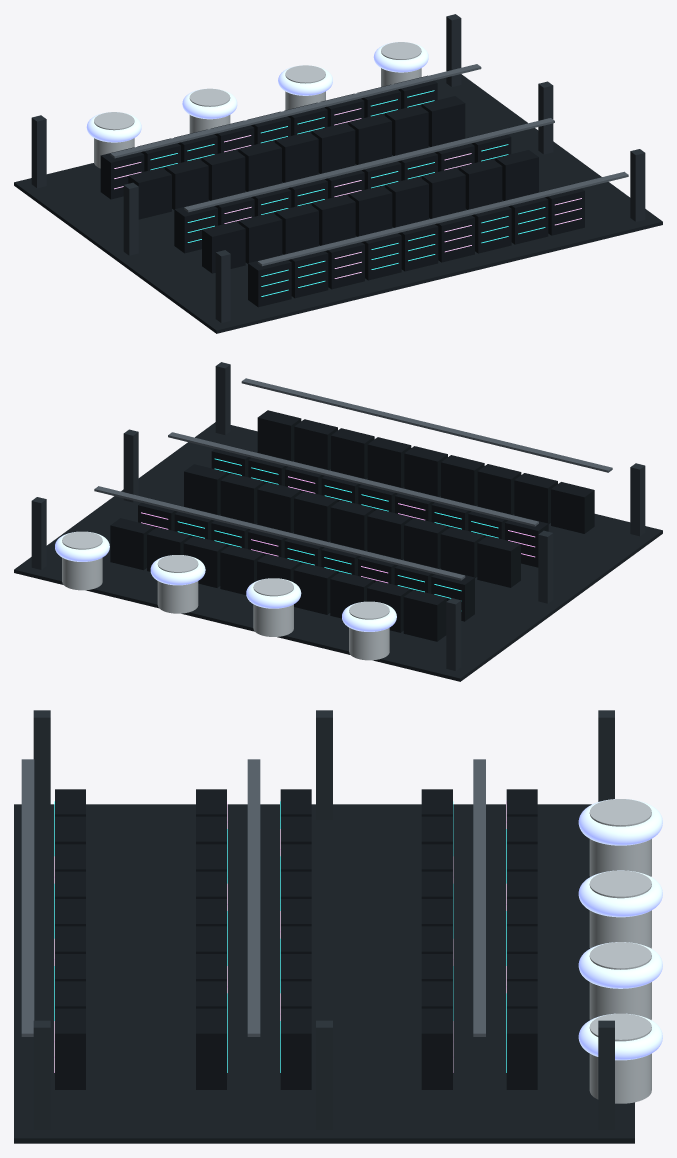
Rendered from server-hall.glb.
3 renders of one model, top to bottom at view 1: azimuth 30°, elevation 25°; view 2: azimuth 150°, elevation 25°; view 3: azimuth 270°, elevation 25°, orthographic. The views are drawn at different scales.
Parts seen in each view (by area): view 1: floor, tray-17, tray-15, tray-1, rack-4-0, rack-1-8, rack-1-5, rack-3-1, rack-3-4, rack-3-7, rack-1-2, rack-3-0 (+51 smaller); view 2: floor, tray-15, tray-17, tray-1, rack-0-0, rack-4-0, rack-2-0, chiller-2, chiller-1, chiller-3, chiller-0, rack-0-8 (+51 smaller); view 3: floor, tray-1, tray-15, tray-17, chiller-1, chiller-0, chiller-2, chiller-3, rack-0-8, rack-1-8, rack-2-8, rack-3-8 (+51 smaller).
Part boxes in pixels (x1,y1,x2,y2): floor: (14,74,662,333); tray-17: (110,64,481,158); tray-15: (257,171,628,266); tray-1: (184,118,554,212); rack-4-0: (248,255,291,307); rack-1-8: (421,96,465,146); rack-1-5: (311,123,355,173); rack-3-1: (238,212,282,263); rack-3-4: (348,185,392,236); rack-3-7: (458,159,502,209); rack-1-2: (201,149,245,200); rack-3-0: (202,221,245,273); floor: (14,422,662,681); tray-15: (241,378,612,472); tray-17: (94,486,465,580); tray-1: (168,432,538,526); rack-0-0: (403,589,447,641); rack-4-0: (551,482,594,533); rack-2-0: (477,535,520,587); chiller-2: (157,555,198,613); chiller-1: (253,578,293,636); chiller-3: (62,531,102,590); chiller-0: (349,601,389,660); rack-0-8: (110,518,153,570); floor: (14,804,634,1143); tray-1: (247,759,260,1036); tray-15: (21,759,34,1036); tray-17: (473,759,485,1036); chiller-1: (589,870,651,948); chiller-0: (589,799,651,876); chiller-2: (589,942,651,1019); chiller-3: (589,1013,651,1103); rack-0-8: (506,1008,537,1089); rack-1-8: (421,1008,452,1089); rack-2-8: (280,1008,311,1089); rack-3-8: (196,1008,226,1089).
Bounding box in the file's own units: 56 × 8.4 × 45.99.
